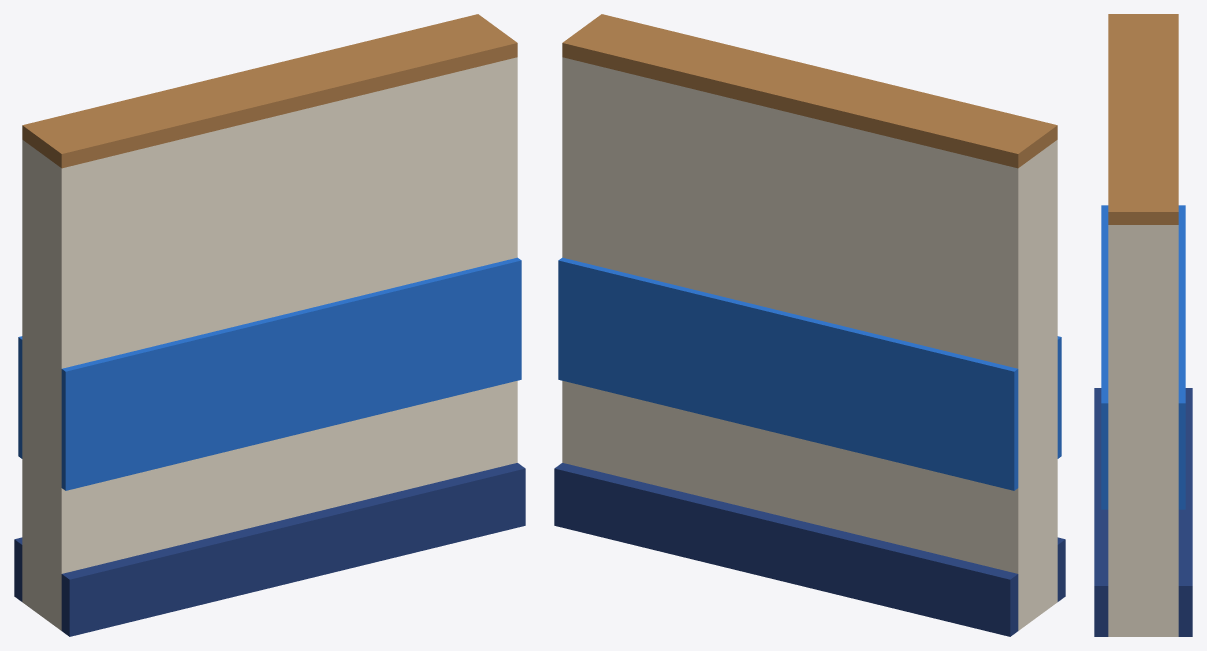
The model's file is partition-full.glb.
3 views of the same model, side by side, from view 1: azimuth 30°, elevation 25°; view 2: azimuth 150°, elevation 25°; view 3: azimuth 270°, elevation 25° (orthographic). The views are drawn at different scales.
Parts seen in each view (by area): view 1: partition-full; view 2: partition-full; view 3: partition-full.
Part boxes in pixels (left/top/right/bottom): partition-full: left=14, top=14, right=525, bottom=636; partition-full: left=554, top=14, right=1065, bottom=636; partition-full: left=1094, top=14, right=1192, bottom=636.
Bounding box in the file's own units: 1 × 1 × 0.21.
1 material, 1 textured.
